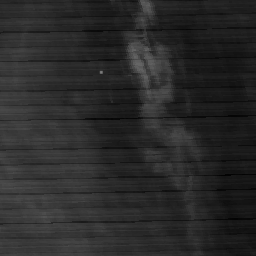Target: (98, 68, 104, 75)
